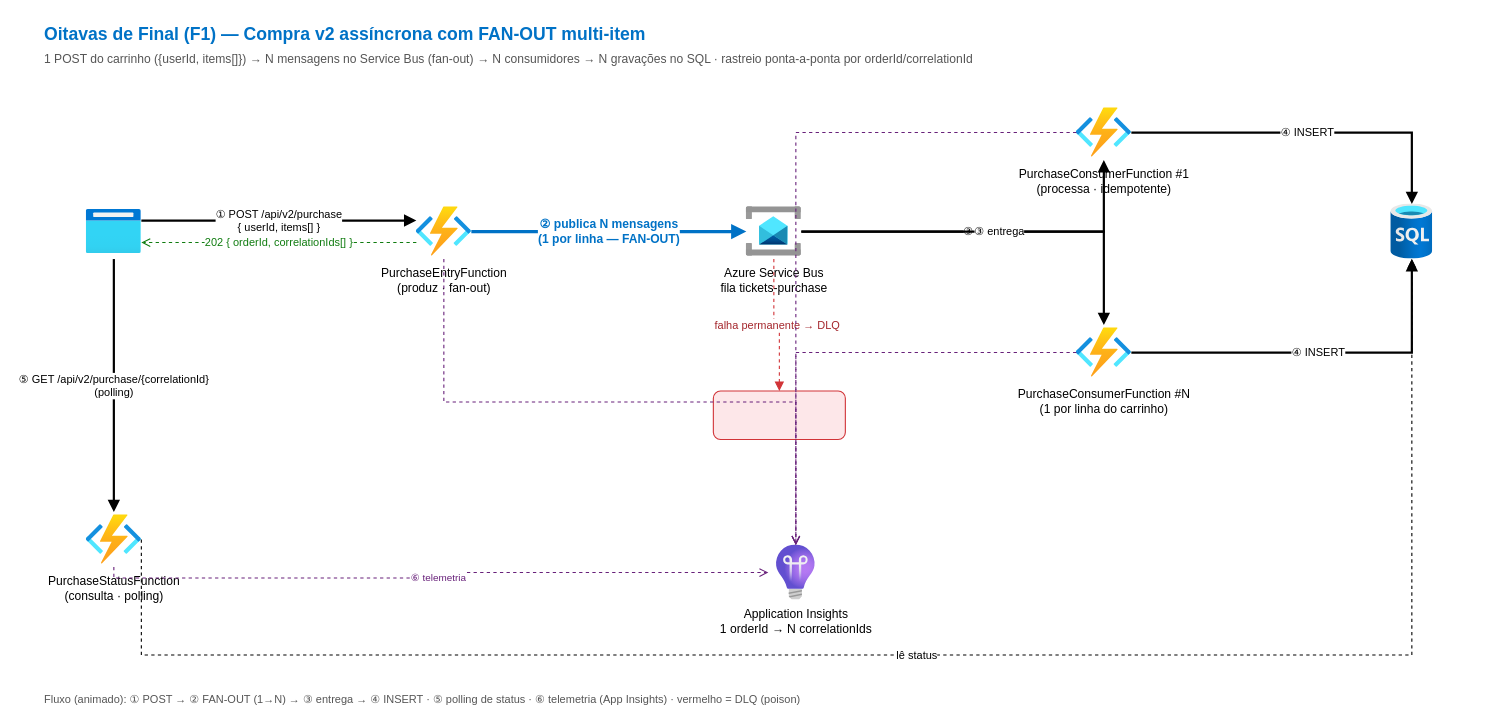
The diagram is 1495 pixels wide and 728 high, and some of its shapes have lost their labels. Each missing label, with the box of its shape:
$DeadLetterQueue (poison msg após 10x): (712, 390, 845, 439)
Azure SQL · purchases INSERT idempotente UNIQUE(correlation_id): (1384, 204, 1439, 258)
Cliente (Browser SPA) App Service · custom domain: (86, 204, 141, 258)
